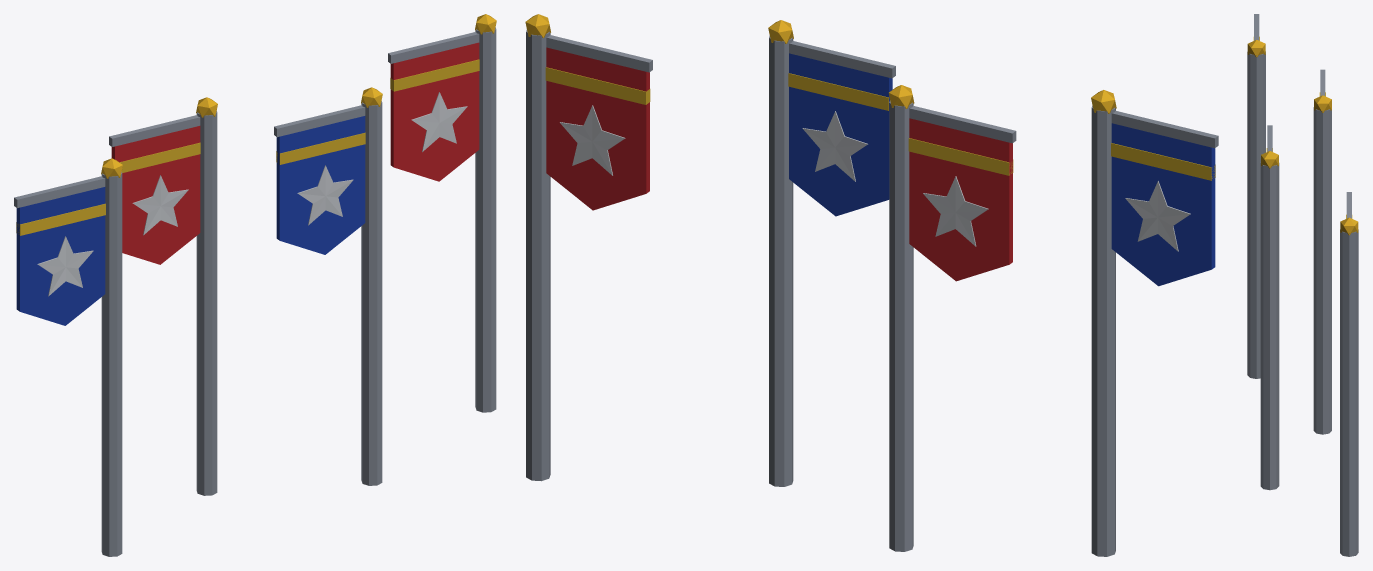
Rendered from Decor_HeroHQ_Banners.fbx.
3 views of the same model, side by side, from view 1: azimuth 30°, elevation 25°; view 2: azimuth 150°, elevation 25°; view 3: azimuth 270°, elevation 25° (orthographic). The views are drawn at different scales.
Parts seen in each view (by area): view 1: Banners_Body; view 2: Banners_Body; view 3: Banners_Body.
Part boxes in pixels (left/top/right/bottom): Banners_Body: left=14, top=14, right=496, bottom=556; Banners_Body: left=525, top=14, right=1218, bottom=556; Banners_Body: left=1247, top=14, right=1358, bottom=556.
Size of the model in its own units: 19.85 by 14 by 4.2.
